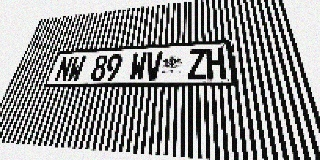8: (89, 54, 109, 81)
9: (104, 54, 123, 81)
H: (206, 48, 226, 79)
N: (53, 56, 74, 82)
V: (144, 51, 163, 80)
W: (129, 52, 147, 81), (66, 56, 86, 82)
Z: (188, 49, 207, 79)
